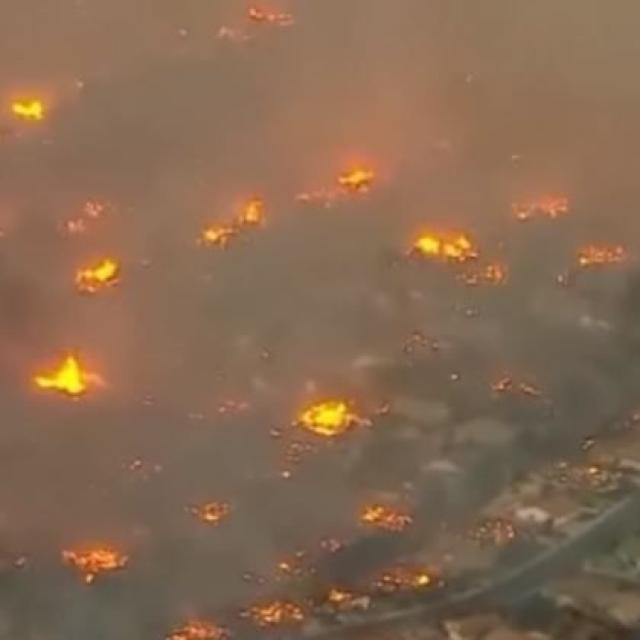Smoke: (32, 2, 640, 198)
